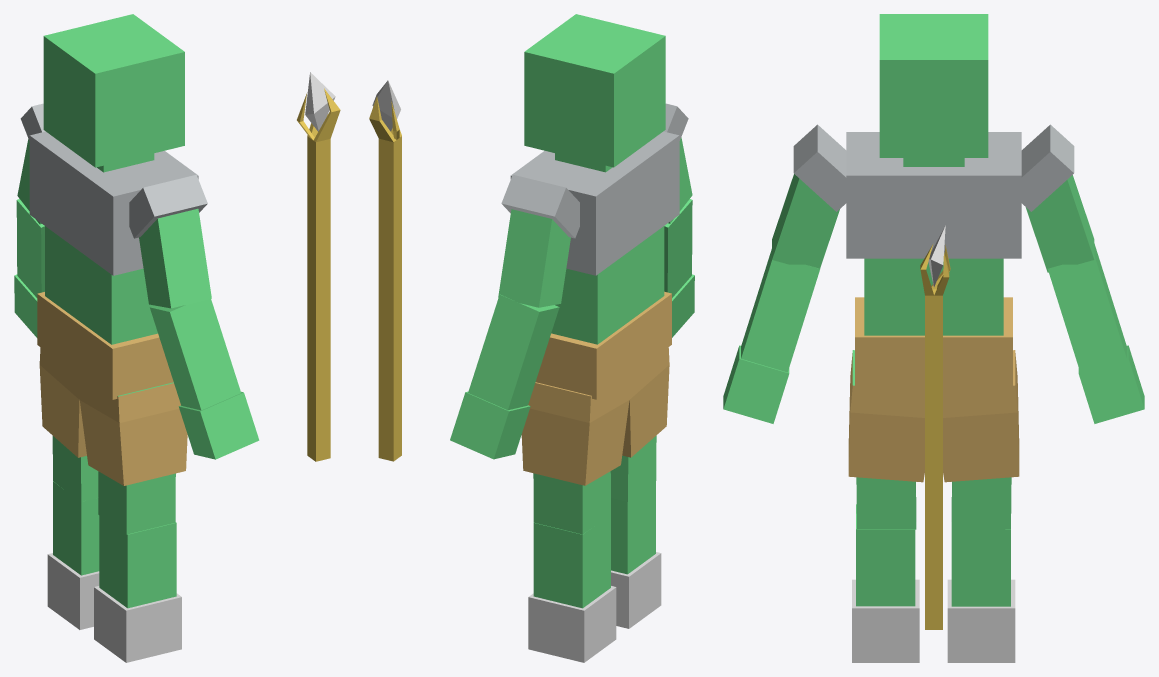
File: makefast_goblin.fbx
3 views of the same model, side by side, from view 1: azimuth 30°, elevation 25°; view 2: azimuth 150°, elevation 25°; view 3: azimuth 270°, elevation 25° (orthographic). The views are drawn at different scales.
Parts seen in each view (by area): view 1: Cube.283, Cube.275, Cube.269, Cube.267, Cube.268, Cube.272, Cube.280, Cube.282, Cube.284, Cube.273, Cube.279, Cube.281 (+8 smaller); view 2: Cube.283, Cube.273, Cube.269, Cube.267, Cube.268, Cube.272, Cube.271, Cube.276, Cube.270, Cube.275, Cube.278, Cube.277 (+8 smaller); view 3: Cube.269, Cube.283, Cube.273, Cube.275, Cube.268, Cube.272, Cube.267, Cube.271, Cube.280, Cube.282, Cube.276, Cube.278 (+7 smaller).
Boxes of the visible parts, x1,y1,x2,y2 form: Cube.283: (43,14,184,167); Cube.275: (79,377,187,534); Cube.269: (29,131,198,275); Cube.267: (297,88,340,461); Cube.268: (45,226,157,344); Cube.272: (37,292,173,399); Cube.280: (150,299,240,410); Cube.282: (99,515,176,608); Cube.284: (139,208,211,308); Cube.273: (39,347,98,501); Cube.279: (94,586,181,662); Cube.281: (178,391,259,459); Cube.283: (524,14,665,167); Cube.273: (521,375,630,534); Cube.269: (510,131,679,275); Cube.267: (369,96,401,461); Cube.268: (551,226,664,344); Cube.272: (535,291,671,399); Cube.271: (468,294,559,410); Cube.276: (533,514,610,608); Cube.270: (498,209,570,307); Cube.275: (610,347,669,501); Cube.278: (528,586,616,662); Cube.277: (450,391,530,459); Cube.269: (846,132,1021,258); Cube.283: (879,14,988,157); Cube.273: (943,350,1019,529); Cube.275: (848,350,924,529); Cube.268: (864,258,1003,335); Cube.272: (855,297,1012,390); Cube.267: (920,244,950,629); Cube.271: (1048,243,1126,372); Cube.280: (741,249,819,372); Cube.282: (856,504,915,606); Cube.276: (951,529,1010,606); Cube.278: (947,579,1015,662).
Bounding box in the file's own units: 317 × 668 × 417.
